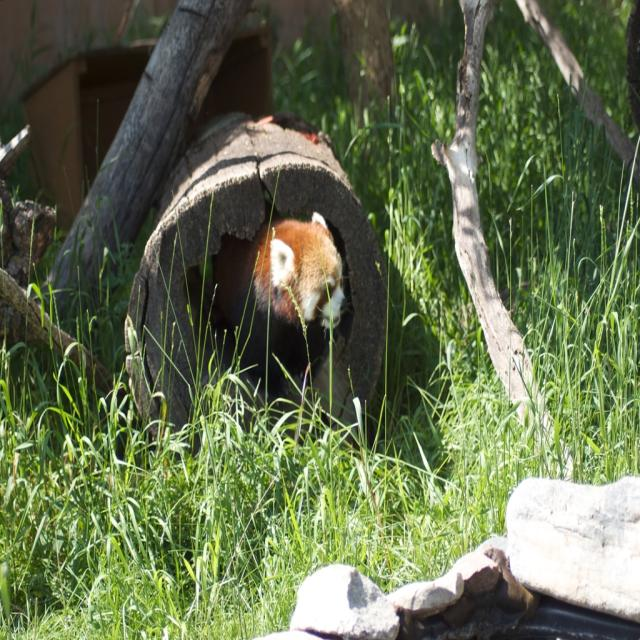panda: (251, 189, 348, 415)
